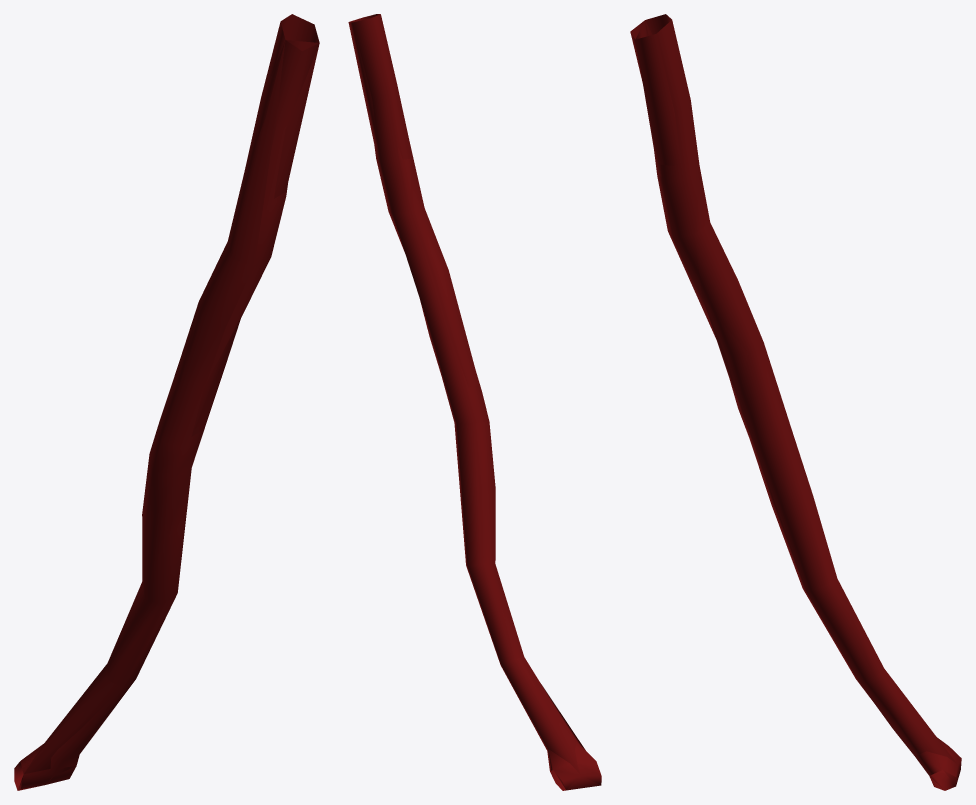
Rendered from L ramus caudalis.fbx.
The picture shows the model from 3 angles, left to right: view 1: azimuth 30°, elevation 25°; view 2: azimuth 210°, elevation 25°; view 3: azimuth 270°, elevation 25°; orthographic projection. The views are drawn at different scales.
Parts seen in each view (by area): view 1: L ramus caudalis, L ramus caudalis low; view 2: L ramus caudalis, L ramus caudalis low; view 3: L ramus caudalis low, L ramus caudalis.
Part boxes in pixels (x1,y1,x2,y2): L ramus caudalis: [14, 25, 319, 790]; L ramus caudalis low: [14, 14, 319, 790]; L ramus caudalis: [352, 14, 601, 790]; L ramus caudalis low: [348, 14, 600, 790]; L ramus caudalis low: [635, 14, 960, 789]; L ramus caudalis: [630, 14, 961, 790].
Size of the model in its own units: 1.53 by 8.53 by 3.15.
